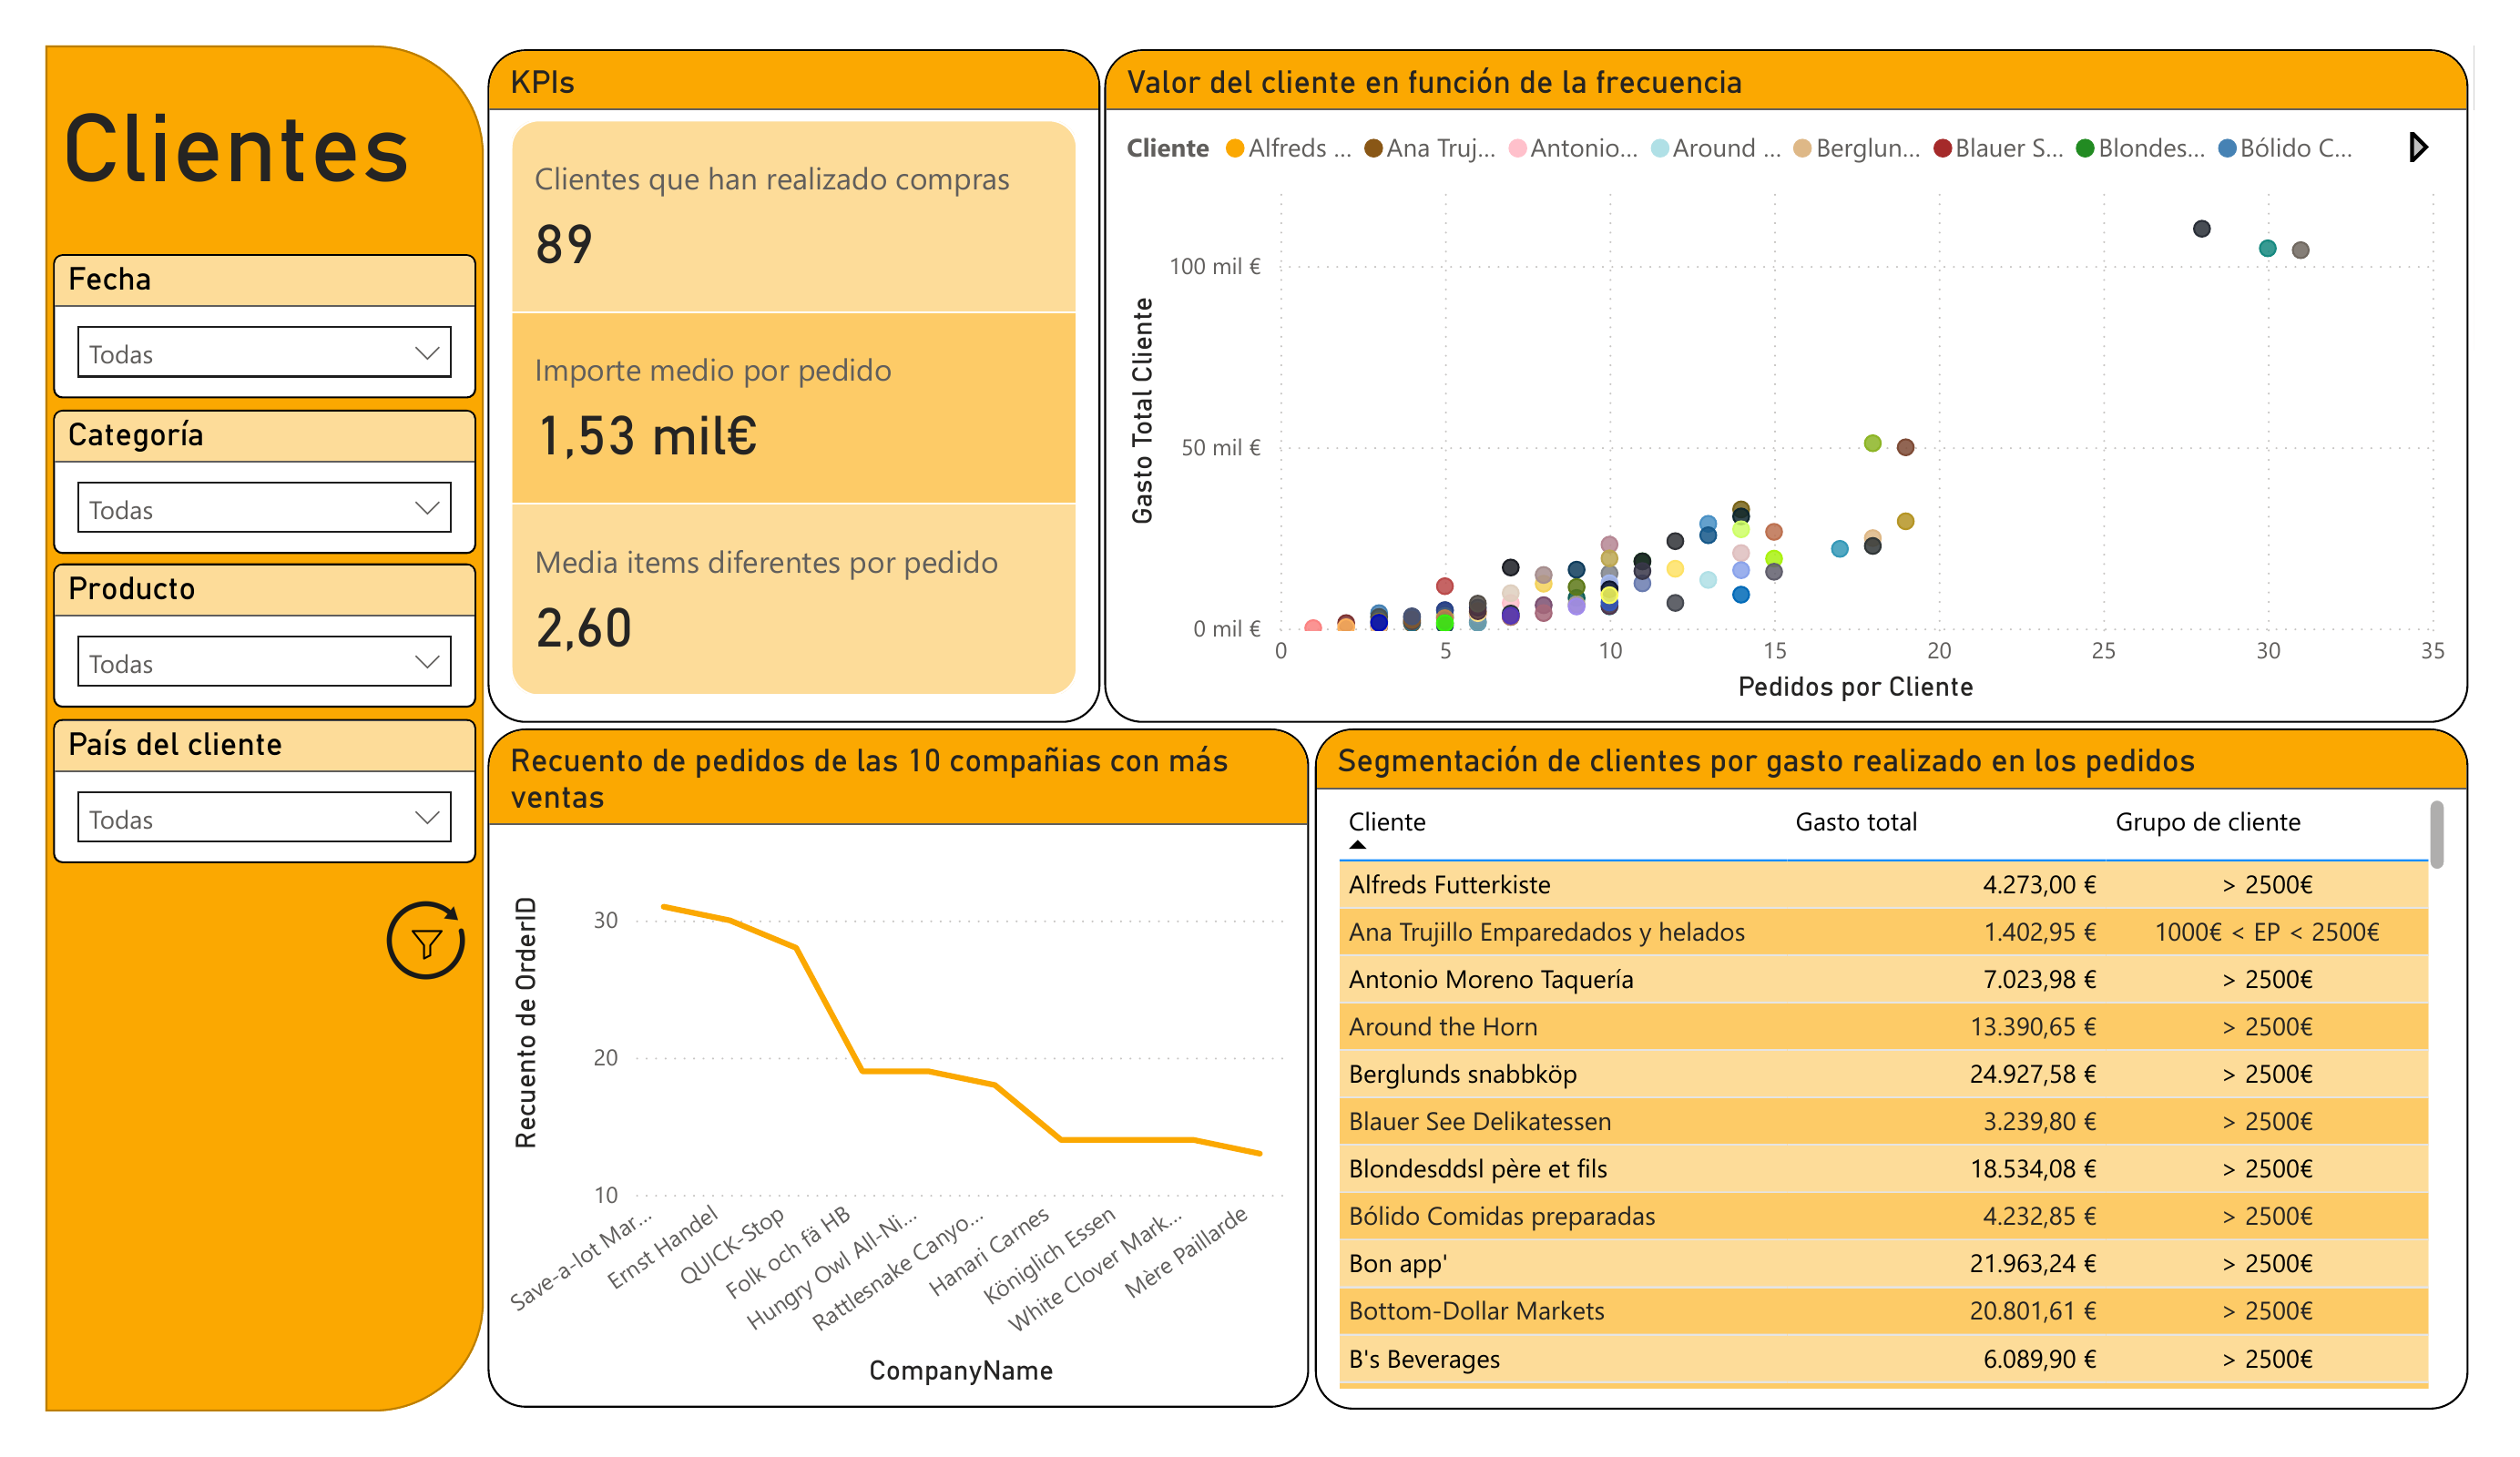

Layout of this report page (visuals, bound fields, positions):
{"tool":"powerbi","page":{"name":"Clientes","canvas":[1280,720],"ordinal":3},"visuals":[{"type":"shape","box":[0,0,230.7,720.2],"z":0},{"type":"scatterChart","fields":{"X":["Medidas Dashboard Clientes.Pedidos por Cliente"],"Y":["Medidas Dashboard Clientes.Gasto Total Cliente"],"Series":["Customers.CompanyName"]},"box":[558.3,2.5,719,354.6],"z":1000},{"type":"cardVisual","title":"KPIs","fields":{"Data":["Medidas Dashboard Clientes.Cantidad_clientes","Medidas Dashboard Clientes.ImporteMedioPorPedido","Medidas Dashboard Clientes.CantidadMediaProductosDiferentesPorPedido"]},"box":[233.1,2.5,322.7,354.6],"z":2000},{"type":"slicer","title":"Fecha","fields":{"Values":["Calendar.Año Jerarquía.Año","Calendar.Año Jerarquía.Trimestre","Calendar.Año Jerarquía.Mes","Calendar.Año Jerarquía.Dia Mes y Semana"]},"box":[3.7,109.9,223.3,76.1],"z":3000},{"type":"textbox","box":[3.8,2.5,222.5,101.2],"z":4000},{"type":"slicer","title":"Categoría","fields":{"Values":["Categories.CategoryName"]},"box":[3.8,191.5,223.2,76],"z":5000},{"type":"slicer","title":"Producto","fields":{"Values":["Products.ProductName"]},"box":[3.6,273.1,223.2,76.4],"z":6000},{"type":"slicer","title":"País del cliente","fields":{"Values":["Customers.Country"]},"box":[3.8,355.1,223,76.2],"z":7000},{"type":"image","box":[187.7,459.9,26.2,27.5],"z":8000},{"type":"image","box":[171.5,438.1,58.8,66.2],"z":9000},{"type":"lineChart","fields":{"Y":["Orders.OrderID"],"Category":["Customers.CompanyName"]},"box":[233.3,359.6,432.3,358.6],"z":11000},{"type":"tableEx","fields":{"Values":["Customers.CompanyName","Order_Details_Extended.ExtendedPrice","Medidas Dashboard Clientes.Segmentacion_clientes"]},"box":[668.7,359.5,608.6,359.5],"z":12000}]}

Visuals, with their boxes on the page's 1280x720 design canvas (x1, y1, x2, y2). These are canvas units, not pixel positions in the 2520x1457 screenshot, which may show the page scaled, cropped or inside an application window:
shape: left=0, top=0, right=231, bottom=720
scatterChart - Medidas Dashboard Clientes.Pedidos por Cliente x Medidas Dashboard Clientes.Gasto Total Cliente: left=558, top=2, right=1277, bottom=357
"KPIs" cardVisual: left=233, top=2, right=556, bottom=357
"Fecha" slicer: left=4, top=110, right=227, bottom=186
textbox: left=4, top=2, right=226, bottom=104
"Categoría" slicer: left=4, top=192, right=227, bottom=268
"Producto" slicer: left=4, top=273, right=227, bottom=350
"País del cliente" slicer: left=4, top=355, right=227, bottom=431
image: left=188, top=460, right=214, bottom=487
image: left=172, top=438, right=230, bottom=504
lineChart - Orders.OrderID x Customers.CompanyName: left=233, top=360, right=666, bottom=718
tableEx - Customers.CompanyName x Order_Details_Extended.ExtendedPrice: left=669, top=360, right=1277, bottom=719
